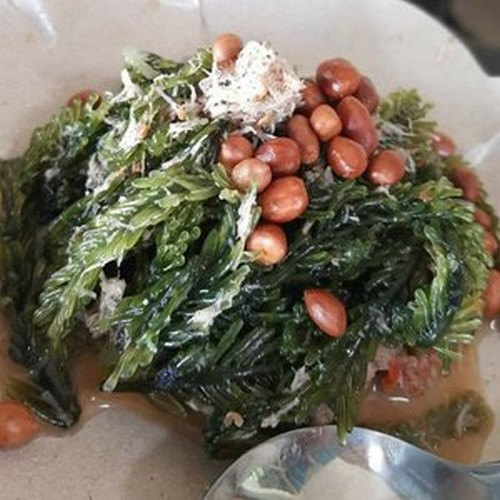bulung buni: (31, 39, 476, 446)
